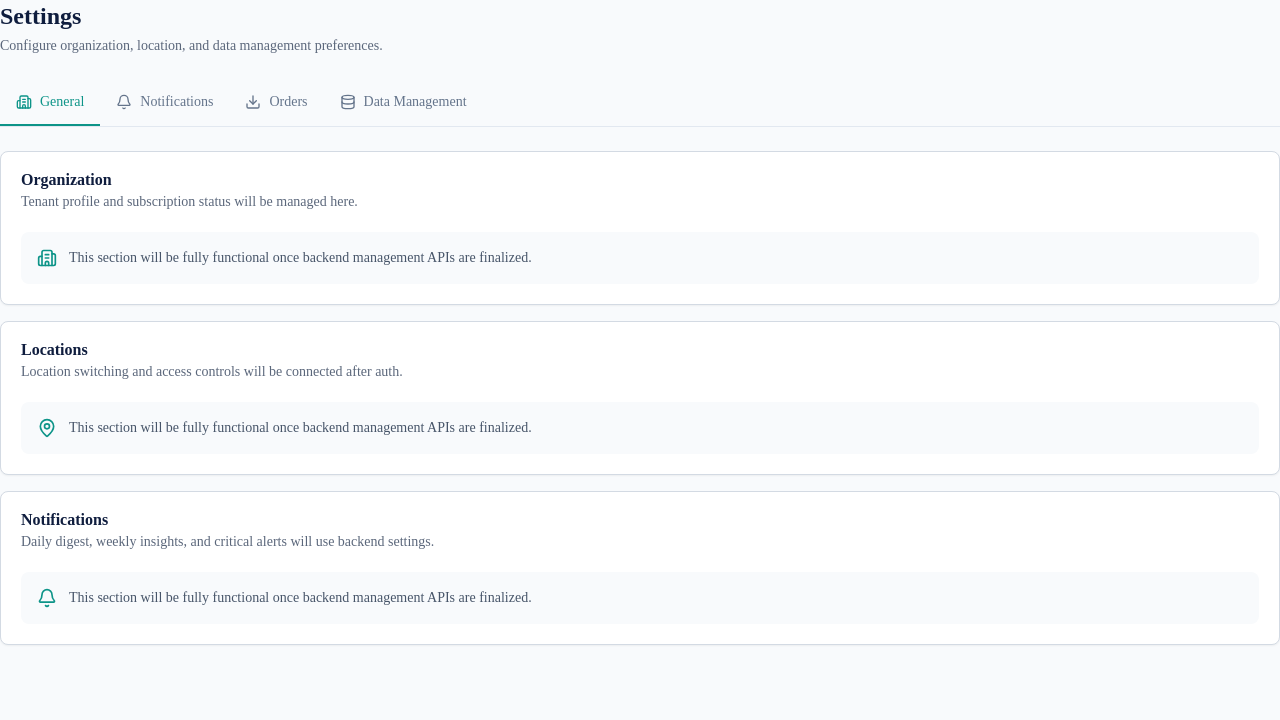
Settings route › opens an existing order for editing from the Orders tab
The image size is (1280, 720).
Click the button "Orders" at (276, 103), box [229,80,324,126]
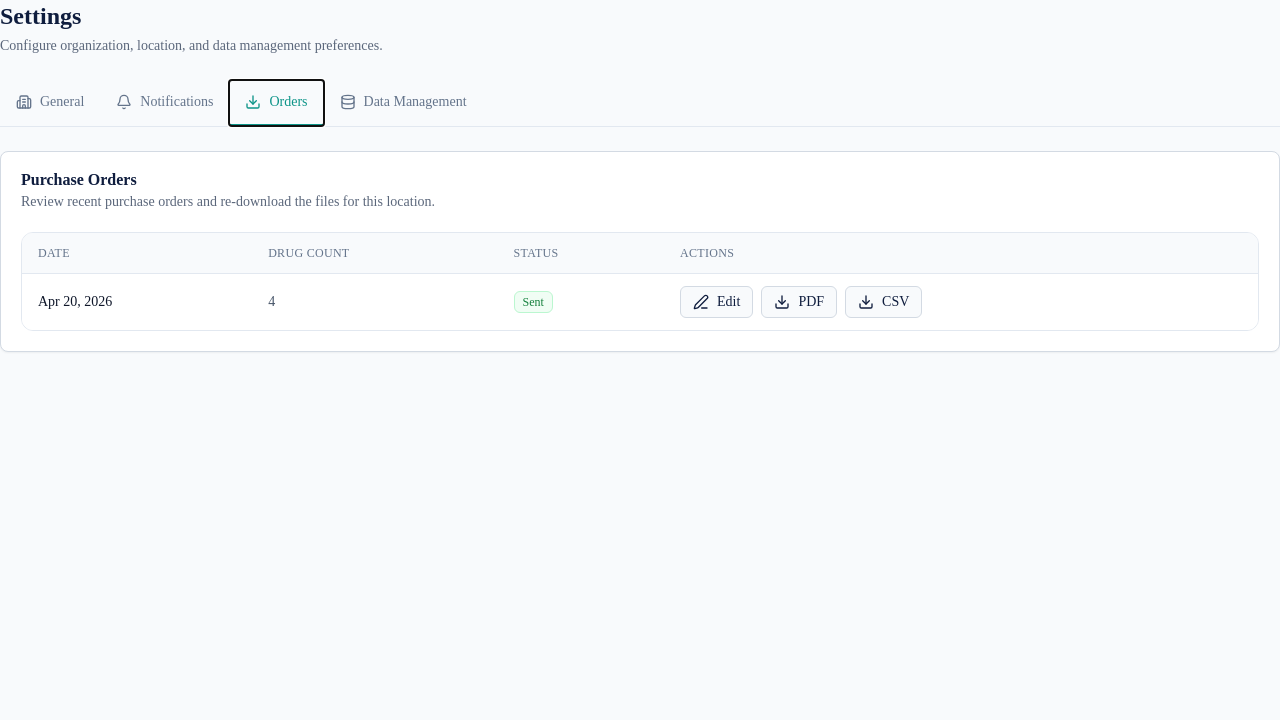
Click the button "Edit" at (717, 302), box [680,286,753,318]
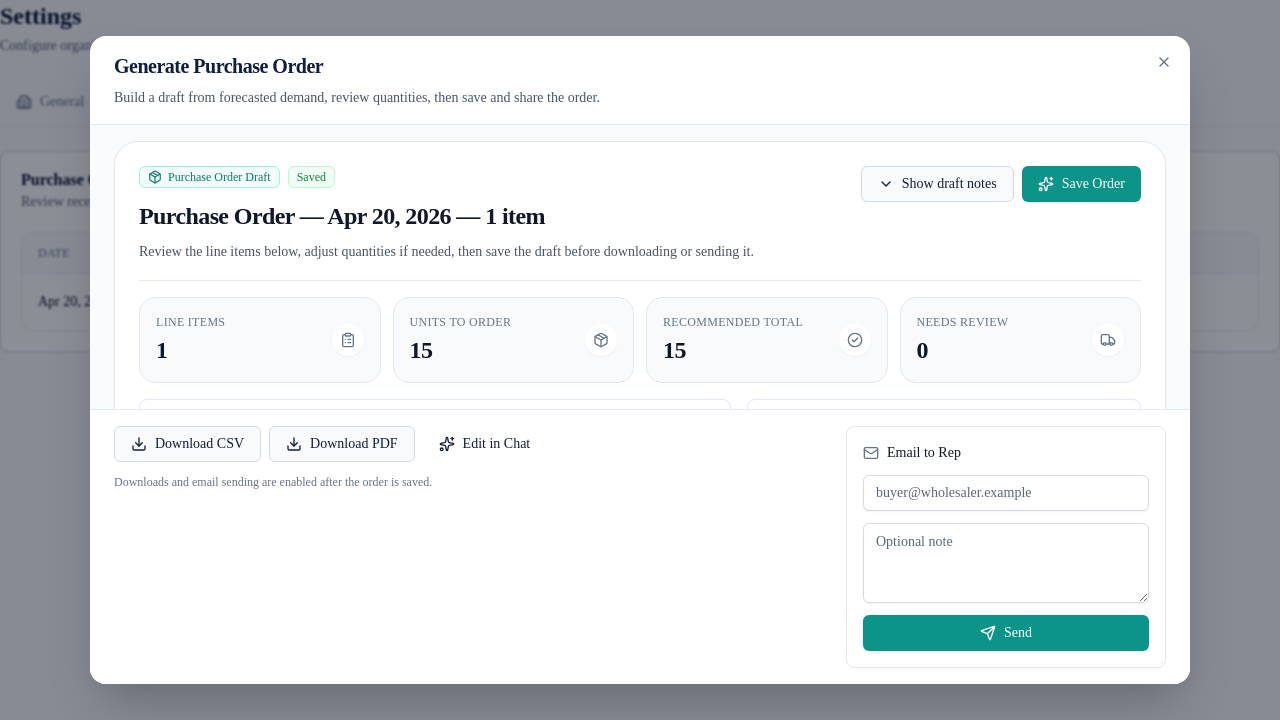
Expected: the text "Purchase Order Draft" is shown, [139,166,280,188]
Expected: the button "Save Order" is shown, [1022,166,1141,202]
